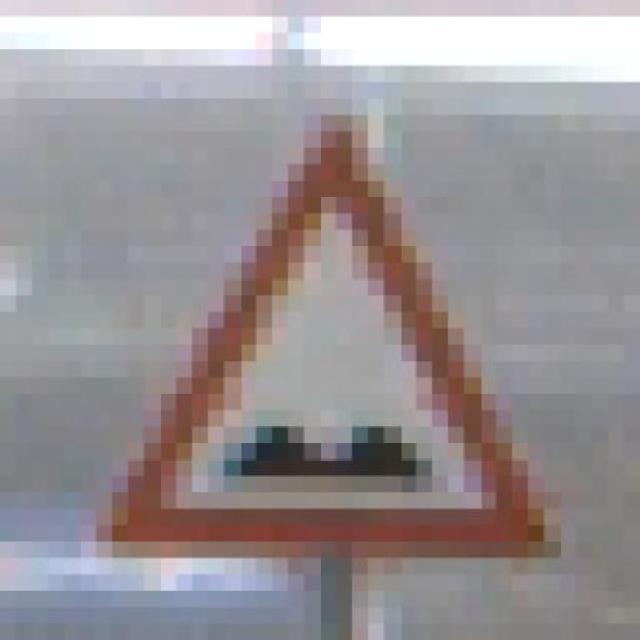Uneven Road: (112, 98, 560, 574)
